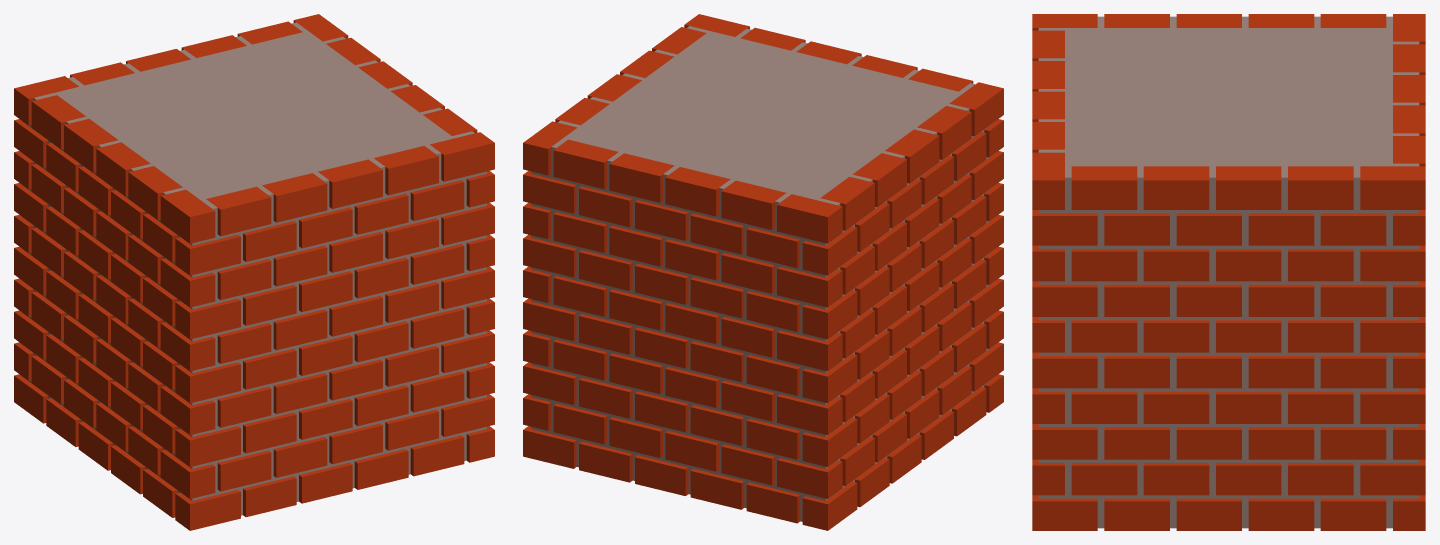
File: stena_kirpich.obj
3 views of the same model, side by side, from view 1: azimuth 30°, elevation 25°; view 2: azimuth 150°, elevation 25°; view 3: azimuth 270°, elevation 25° (orthographic). The views are drawn at different scales.
Size of the model in its own units: 6 by 5.9 by 6.
1 material, 1 textured.
